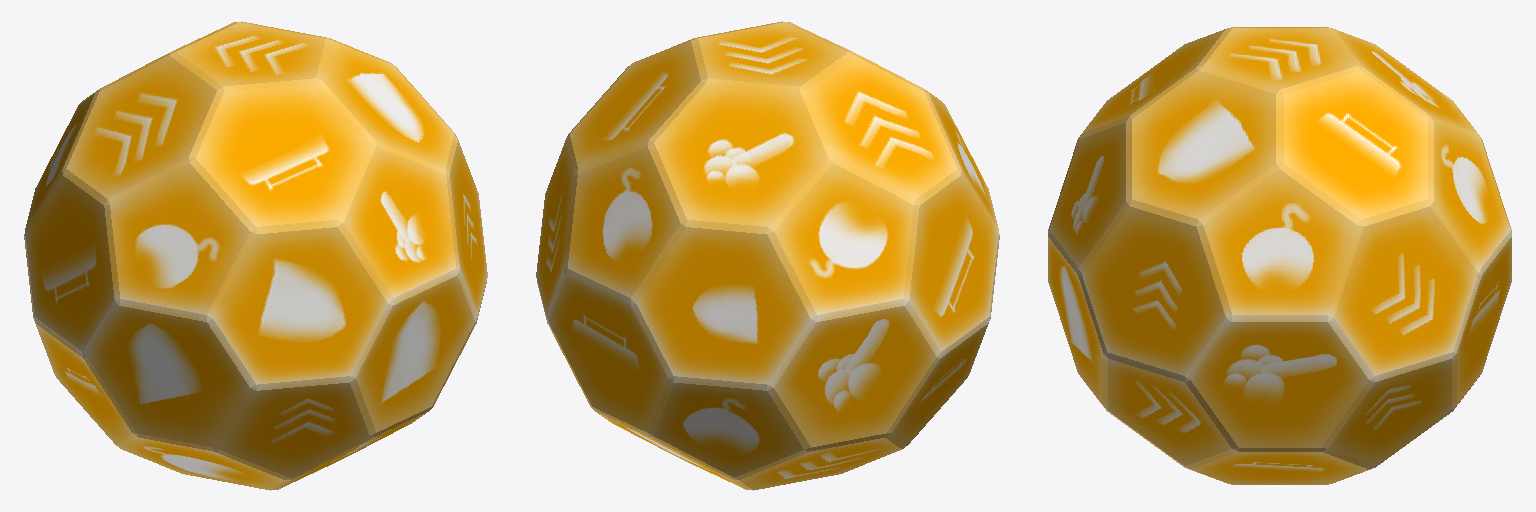
3 renders of one model, left to right at view 1: azimuth 30°, elevation 25°; view 2: azimuth 150°, elevation 25°; view 3: azimuth 270°, elevation 25°, orthographic.
Size of the model in its own units: 250 by 242 by 254.
1 materials, 1 textured.